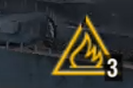3fire: (47, 37, 122, 80)
